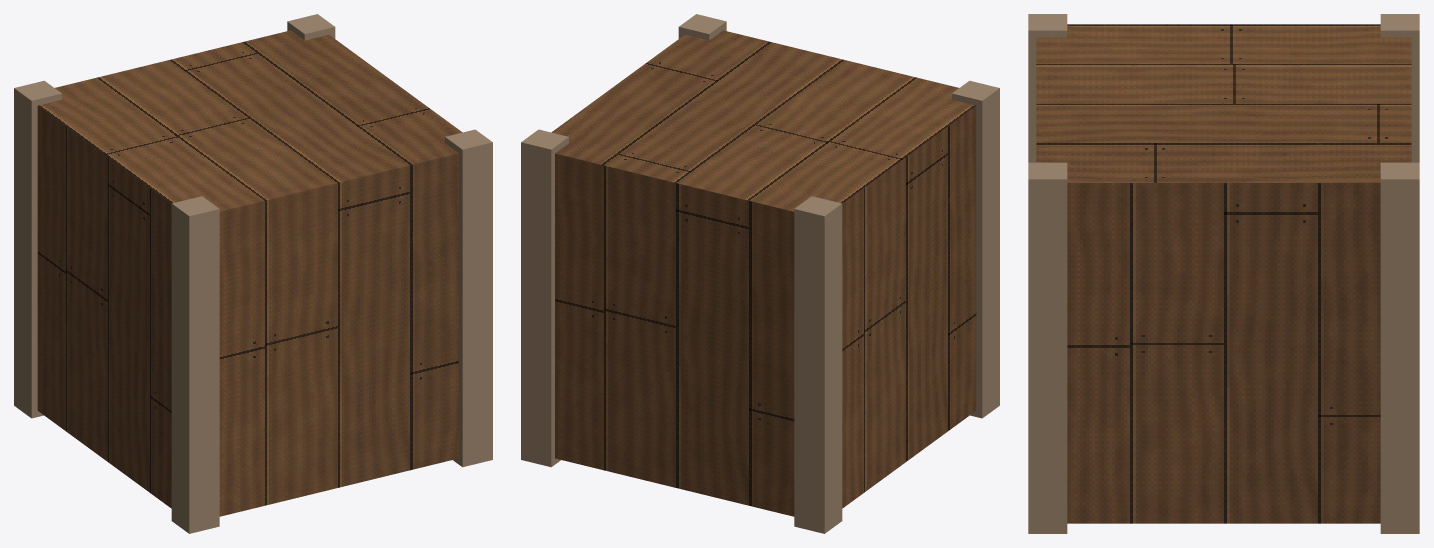
The model's file is demo-wooden-crate.glb.
The picture shows the model from 3 angles, left to right: view 1: azimuth 30°, elevation 25°; view 2: azimuth 150°, elevation 25°; view 3: azimuth 270°, elevation 25°; orthographic projection. The views are drawn at different scales.
Visible parts, largest first — view 1: prop; view 2: prop; view 3: prop.
Part boxes in pixels (x1,y1,x2,y2): prop: [14, 14, 492, 533]; prop: [521, 14, 999, 533]; prop: [1028, 14, 1419, 533].
Size of the model in its own units: 1 by 1 by 1.
Materials: 2 (1 with a texture image).
